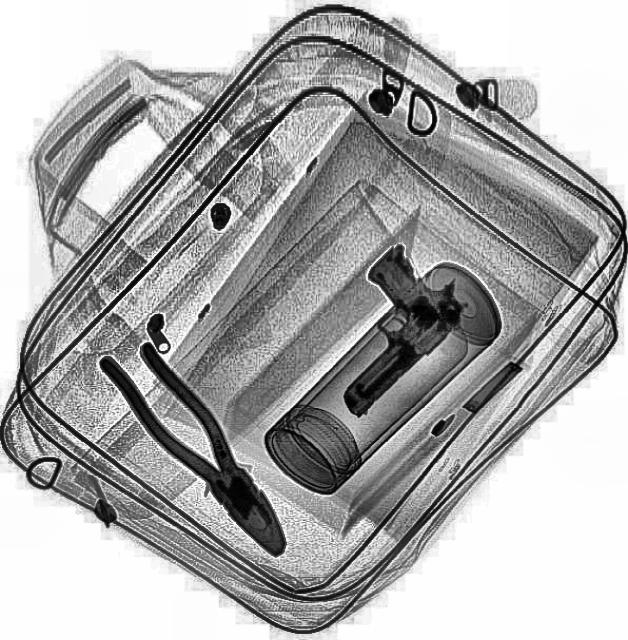Gun: (288, 225, 482, 422)
Pliers: (94, 328, 306, 570)
